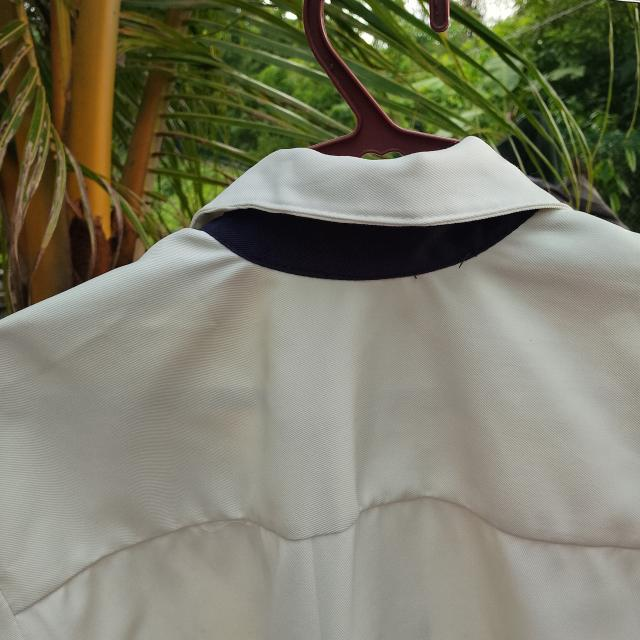education_male_uniform: (19, 138, 634, 634)
